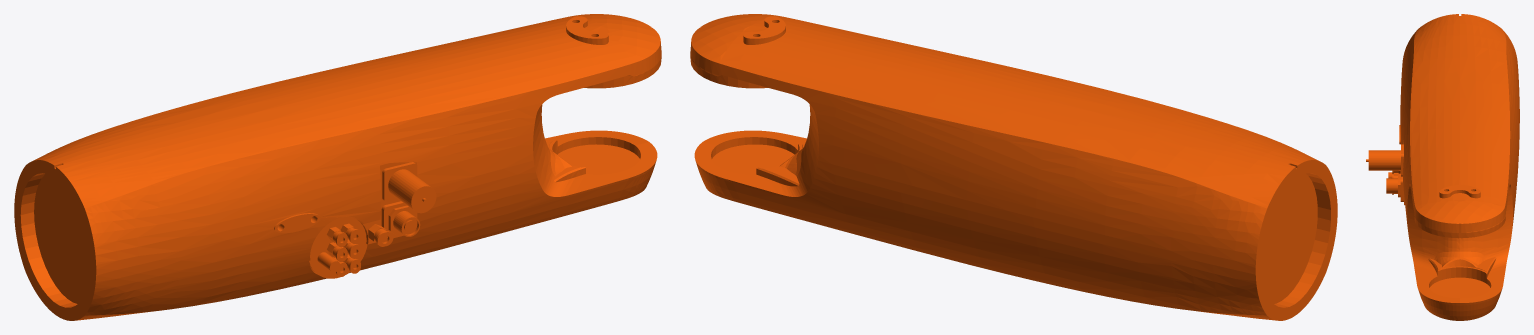
Rendered from KukaKR10R1100AlignedLink4.dae.
The picture shows the model from 3 angles, left to right: view 1: azimuth 30°, elevation 25°; view 2: azimuth 150°, elevation 25°; view 3: azimuth 270°, elevation 25°; orthographic projection. The views are drawn at different scales.
Visible parts, largest first — view 1: node0; view 2: node0; view 3: node0.
Boxes of the visible parts, box(x1,y1,x2,y2) form: node0: box(14, 14, 661, 320); node0: box(690, 14, 1337, 320); node0: box(1366, 14, 1519, 320).
Size of the model in its own units: 0.4504 by 0.1192 by 0.1427.
